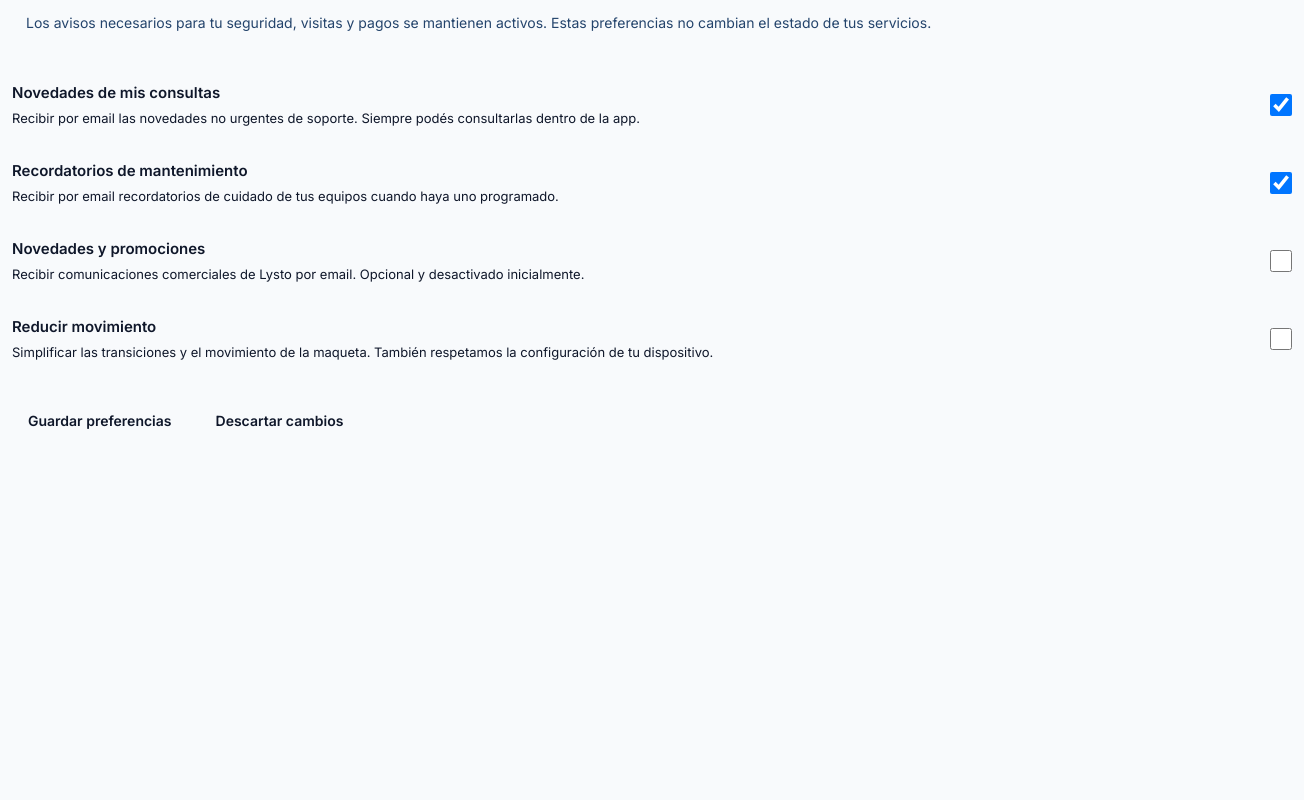
More account forms with actual transport contracts › keeps unsaved settings after a failed save and does not announce success
The image size is (1304, 800).
Click the checkbox labelled "Reducir movimiento".
click(1281, 339)  # box [1270,328,1292,350]
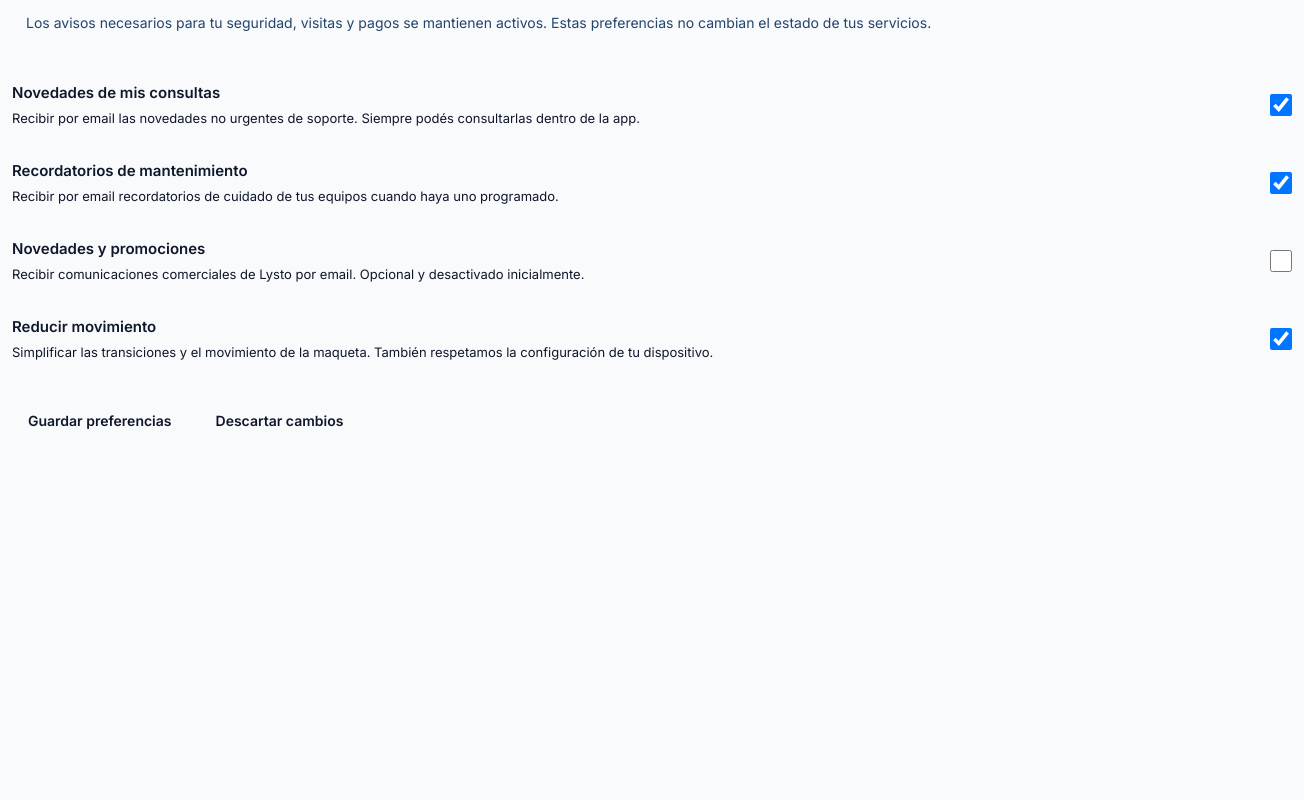
Click the button "Guardar preferencias".
click(100, 420)  # box [12,398,188,442]
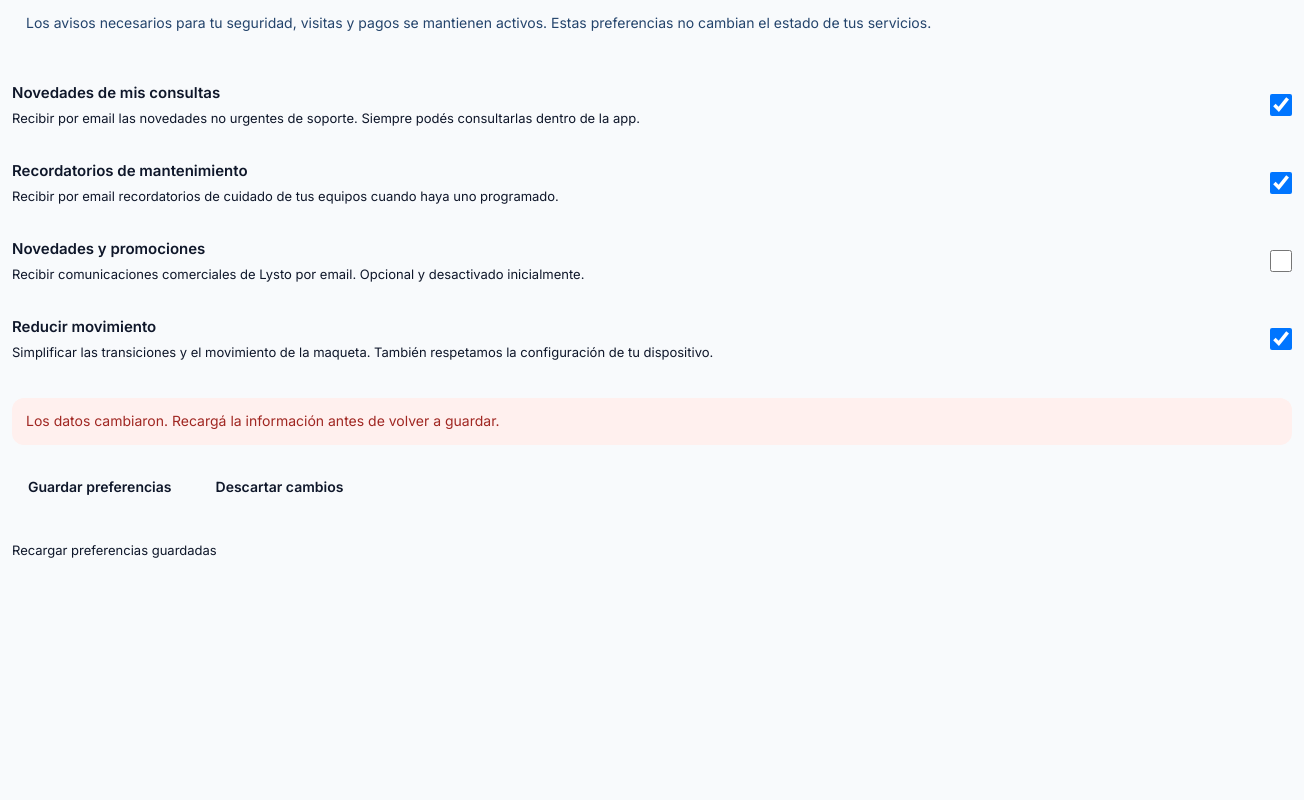
expect the checkbox labelled "Reducir movimiento" is checked: met, box [1270,328,1292,350]
expect the message shows "Los datos cambiaron": met, box [26,412,500,429]
